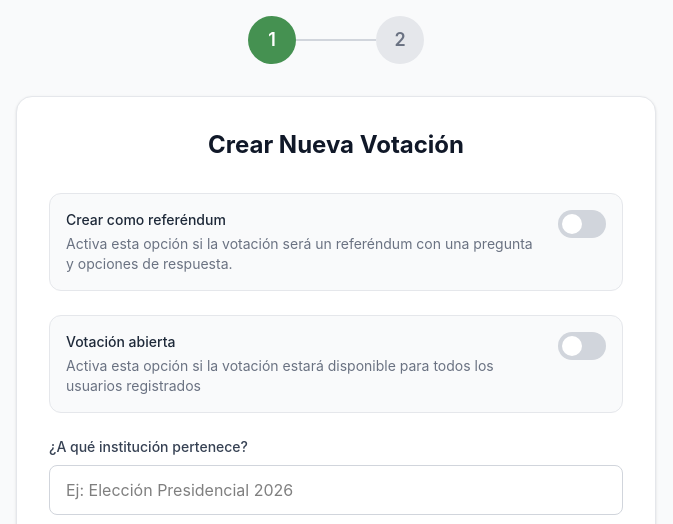
Test: votación abierta | asistente de creación › EA-P0-01-003 permite desactivar la votación abierta antes de continuar
Click the switch named "¿Es votación abierta?".
click(582, 346)  # box [558,332,606,360]
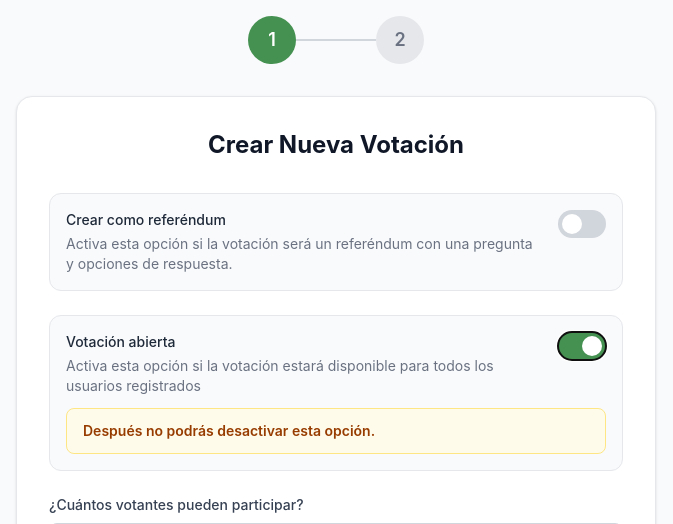
Click the switch named "¿Es votación abierta?".
click(582, 346)  # box [558,332,606,360]
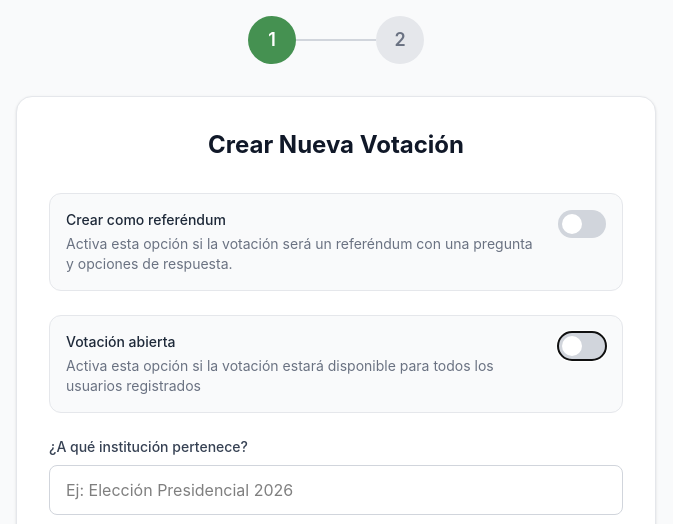
Result: the text "Después no podrás desactivar esta opción." is gone
